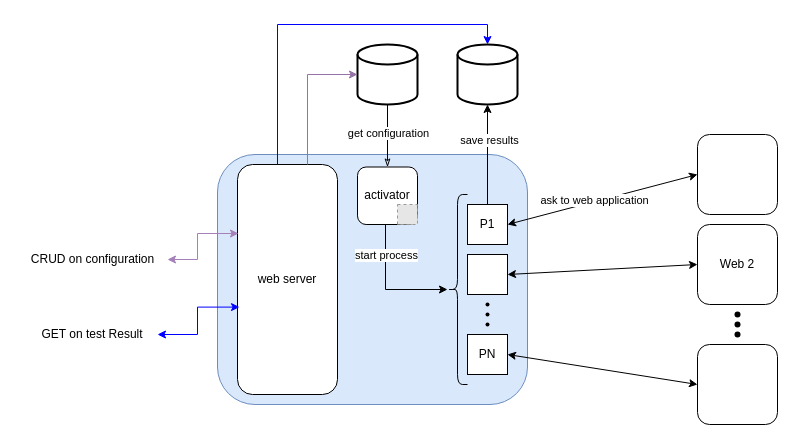
This 795x442 diagram has some shape labels left out. Grey dashed boxes stand in for pictures. Here are the shapes that lost their labels. From the top down, the centre of each, then its label:
At [737,174]: "Web 1".
At [487,274]: "P2".
At [737,384]: "Web N".
